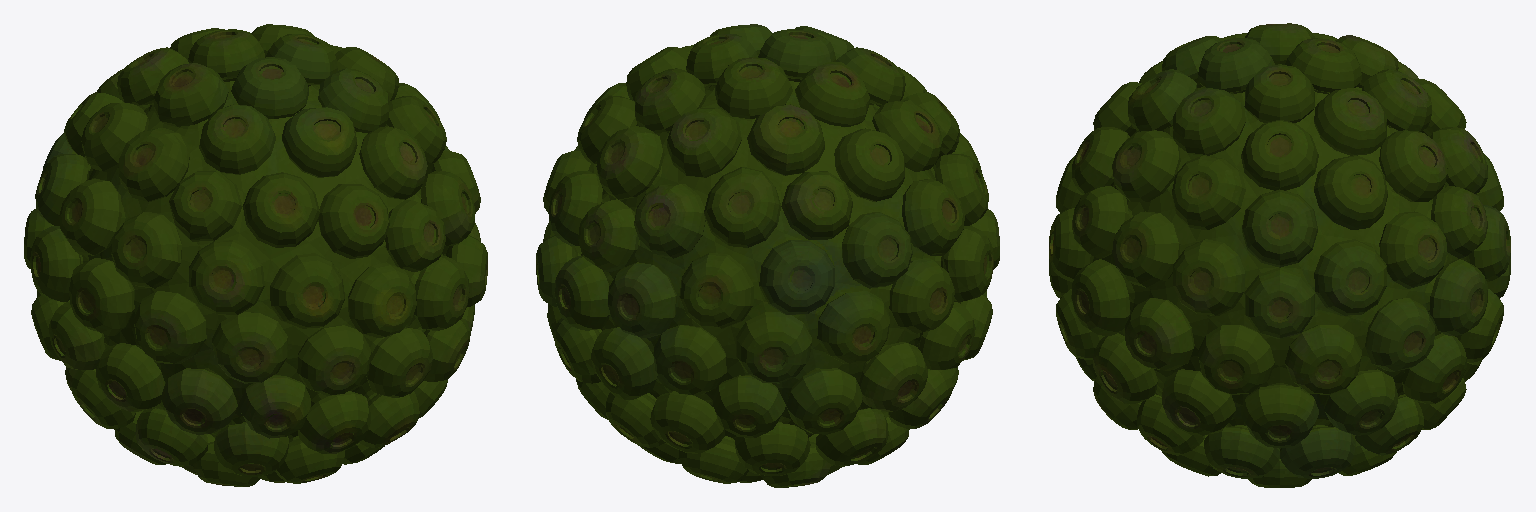
3 views of the same model, side by side, from view 1: azimuth 30°, elevation 25°; view 2: azimuth 150°, elevation 25°; view 3: azimuth 270°, elevation 25° (orthographic).
Parts seen in each view (by area): view 1: virus_05; view 2: virus_05; view 3: virus_05.
Boxes of the visible parts, x1,y1,x2,y2 form: virus_05: [24, 24, 487, 486]; virus_05: [536, 24, 999, 487]; virus_05: [1049, 23, 1510, 487].
Size of the model in its own units: 228 by 227 by 228.
1 materials, 1 textured.